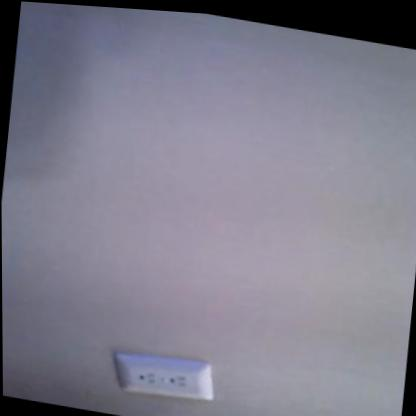OUTLET: (114, 348, 216, 407)
